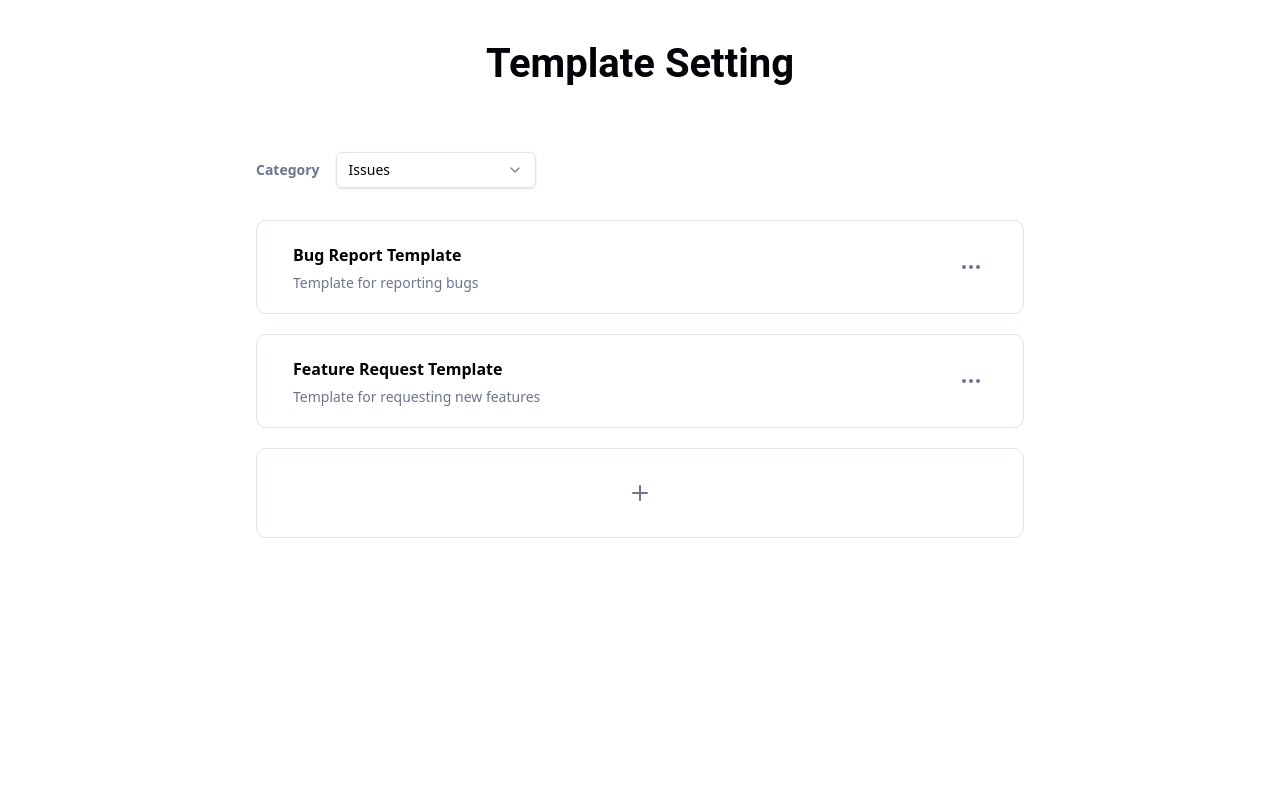
it: ProjectTemplateSetting Page - 통합 테스트 › 템플릿 수정 기능 › 템플릿을 수정할 수 있다
This screenshot has width=1280, height=800.
Expected: the text "Bug Report Template" is shown, [293,241,479,269]
Click the button without text in the row of "Template for reporting bugs".
click(971, 267)  # box [955,251,987,283]
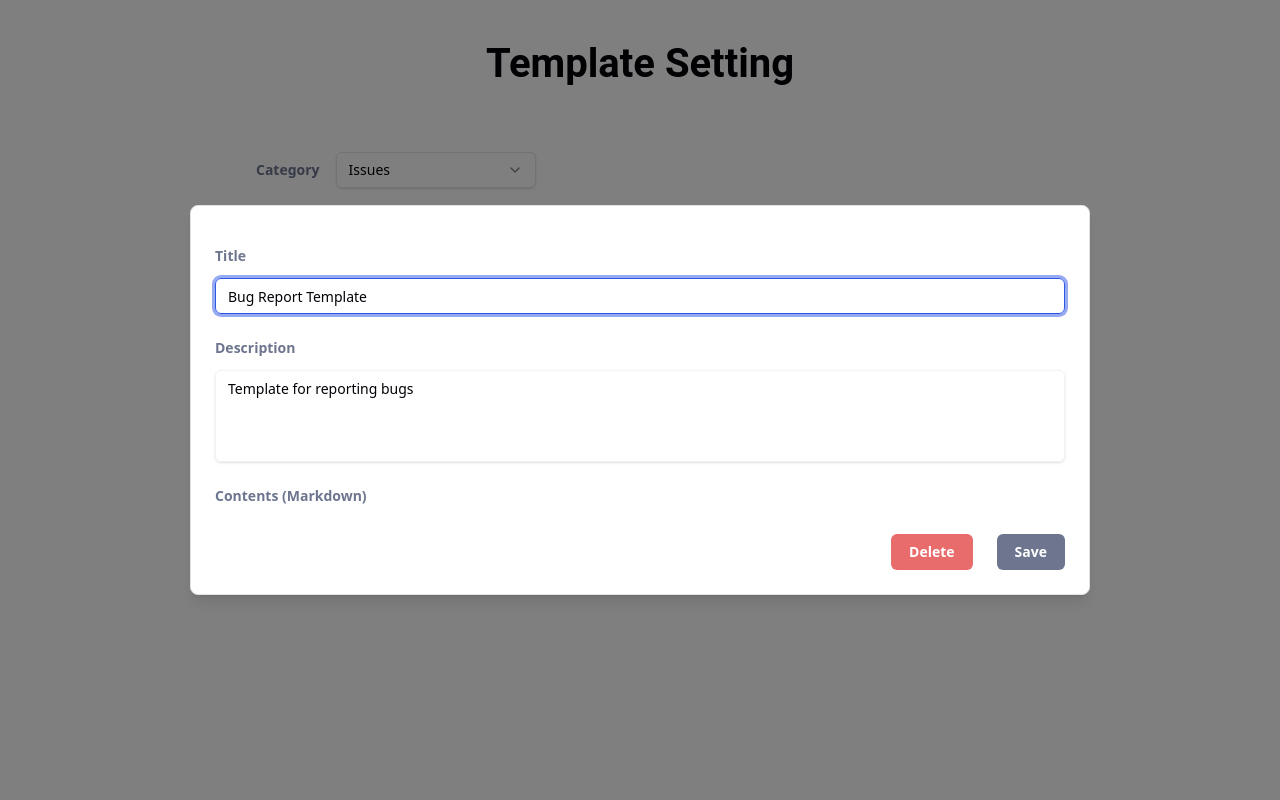
Expected: the field is shown
Replace the text in the field with "Updated Bug Report" at (640, 296), box [215,278,1065,314]
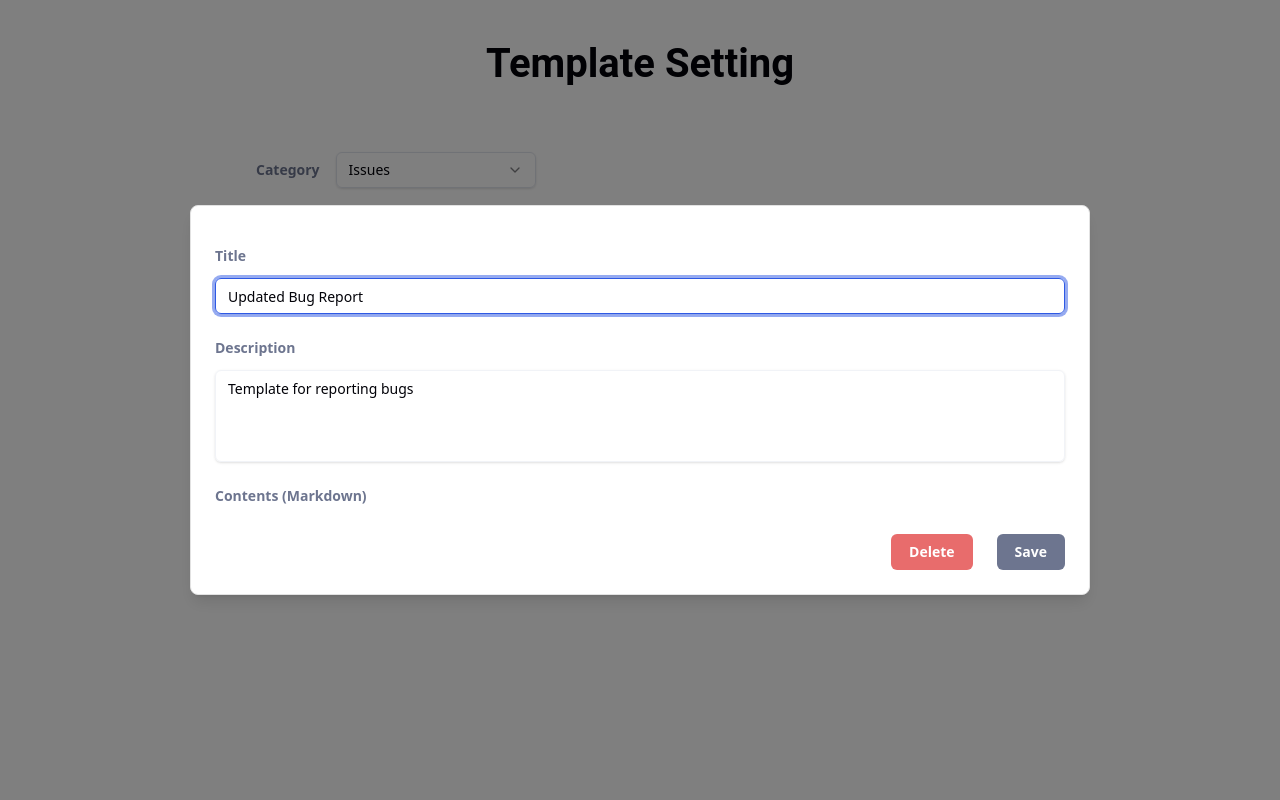
# Save 버튼 클릭
Click the button "Save".
click(1031, 552)  # box [997,534,1065,570]
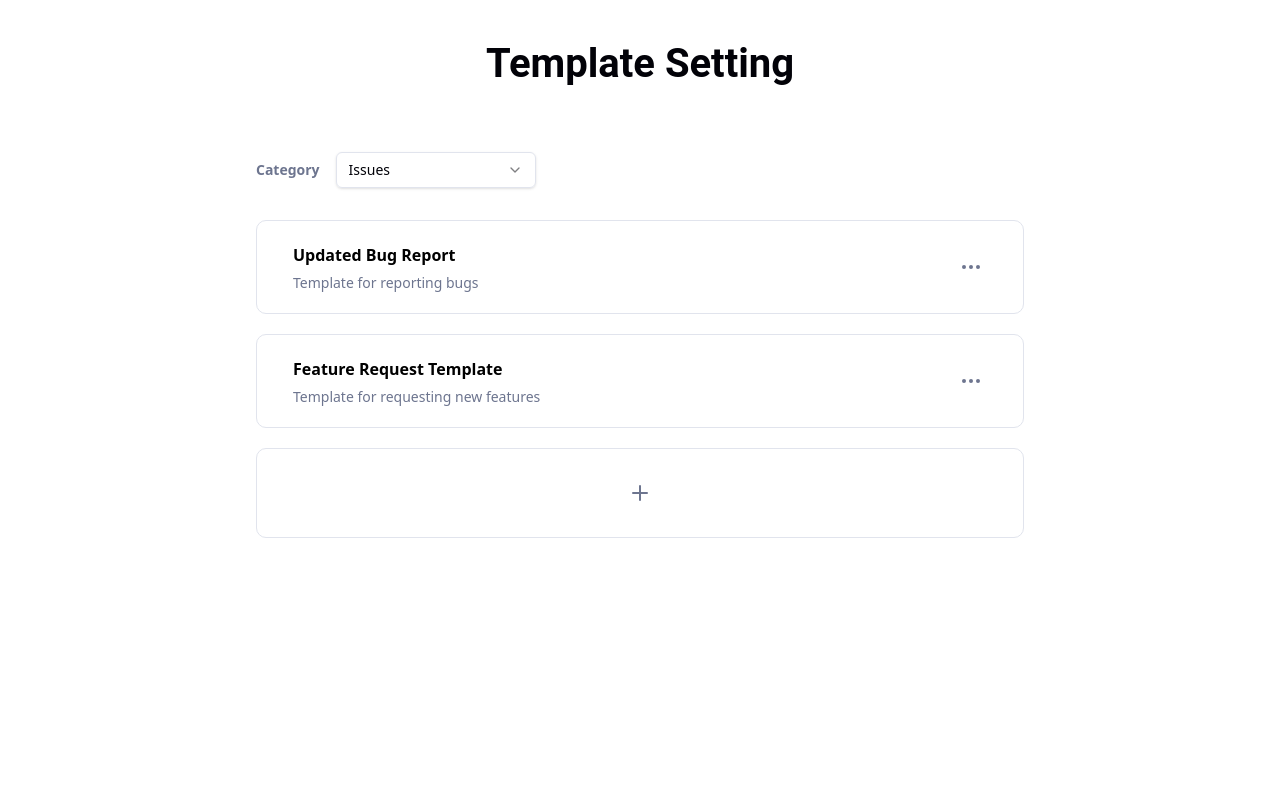
Expected: the text "Updated Bug Report" is shown, [293,241,479,269]
